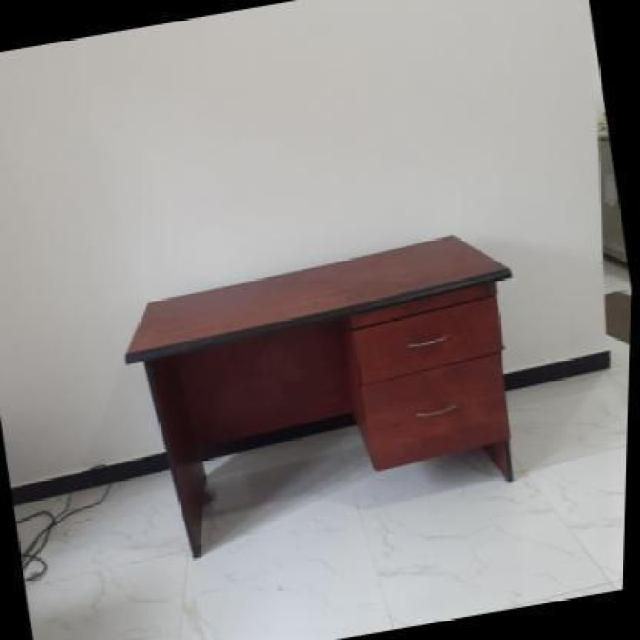tables: (123, 232, 515, 558)
